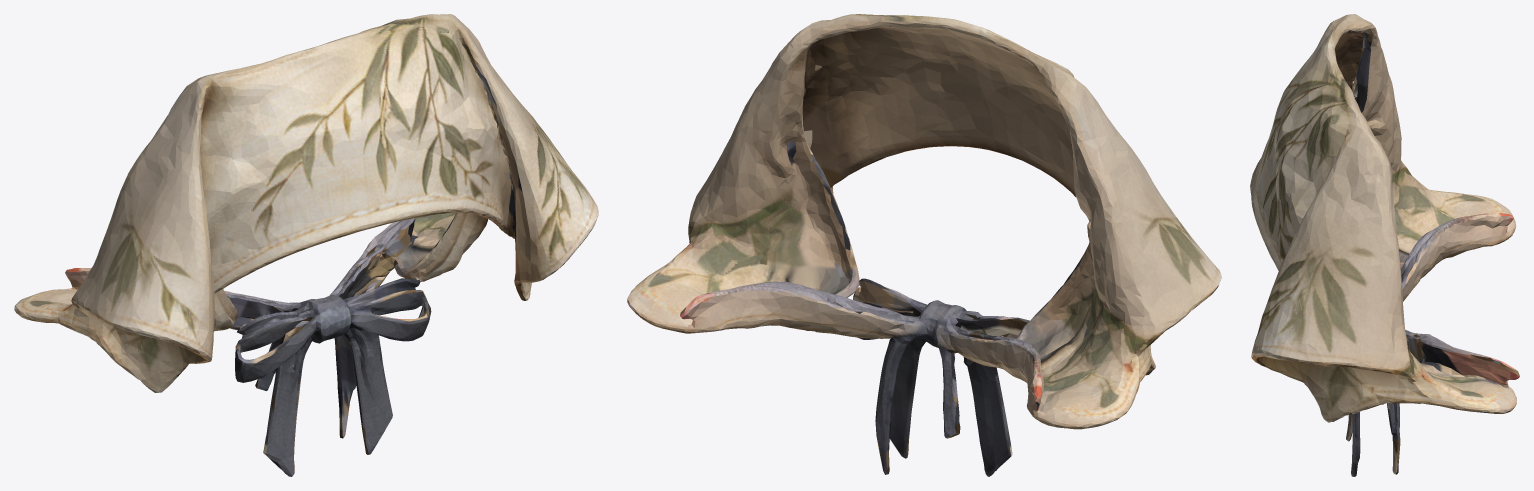
The model's file is mitsue_maid_hat_source.glb.
3 renders of one model, left to right at view 1: azimuth 30°, elevation 25°; view 2: azimuth 150°, elevation 25°; view 3: azimuth 270°, elevation 25°, orthographic. The views are drawn at different scales.
Visible parts, largest first — view 1: temp_mesh.ply; view 2: temp_mesh.ply; view 3: temp_mesh.ply.
Boxes of the visible parts, bbox=[...] form: temp_mesh.ply: bbox=[14, 14, 598, 476]; temp_mesh.ply: bbox=[627, 14, 1221, 476]; temp_mesh.ply: bbox=[1250, 14, 1519, 476].
Size of the model in its own units: 1.97 by 1.68 by 1.01.
Materials: 1 (1 with a texture image).
